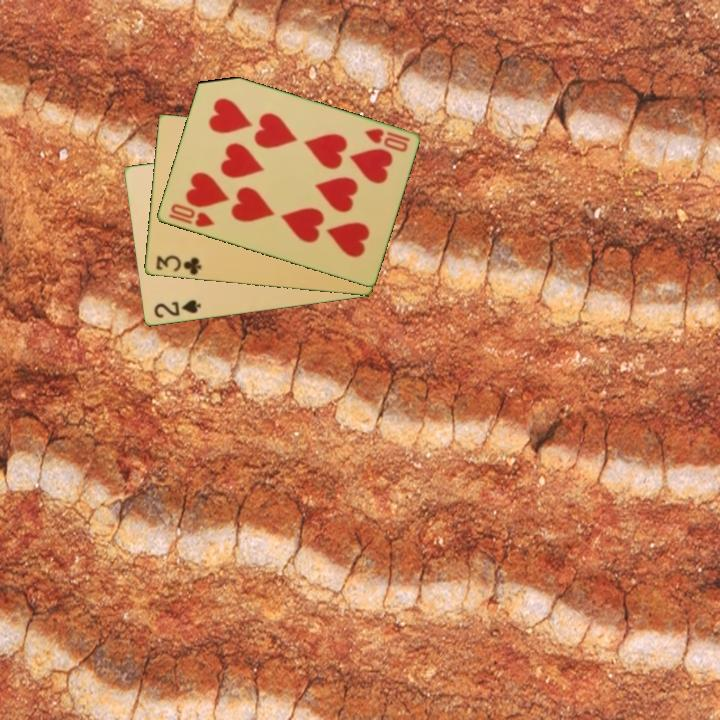10h: (165, 200, 217, 230), (361, 125, 412, 155)
2s: (150, 296, 203, 321)
3c: (152, 252, 204, 278)
